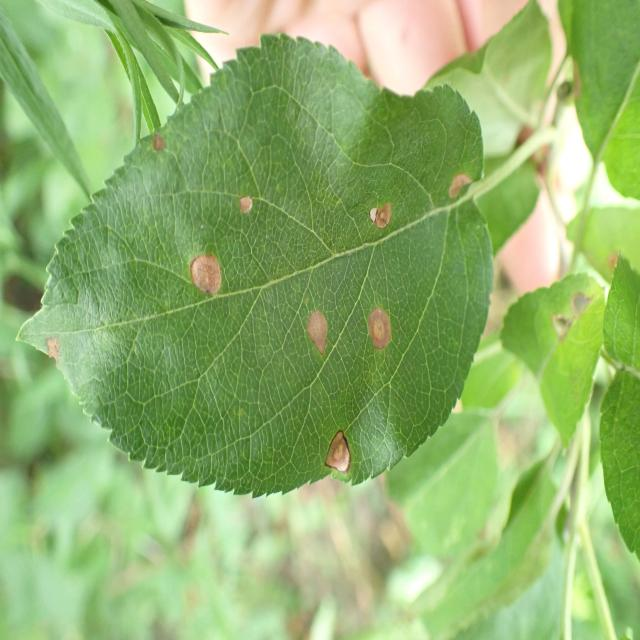Black Rot: (183, 248, 230, 309), (317, 425, 370, 474), (297, 289, 331, 365), (35, 319, 78, 378), (363, 293, 390, 372), (444, 160, 478, 213), (366, 192, 403, 238), (224, 175, 258, 222), (148, 130, 168, 166)
